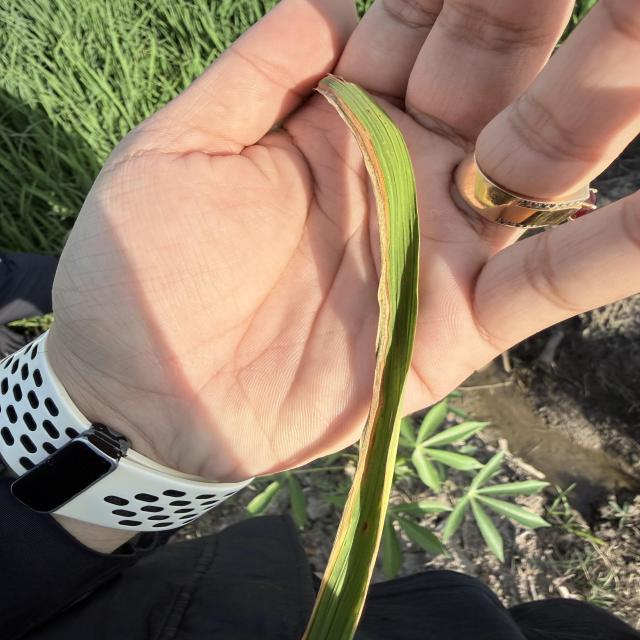Chay bia la: (301, 80, 394, 640)
